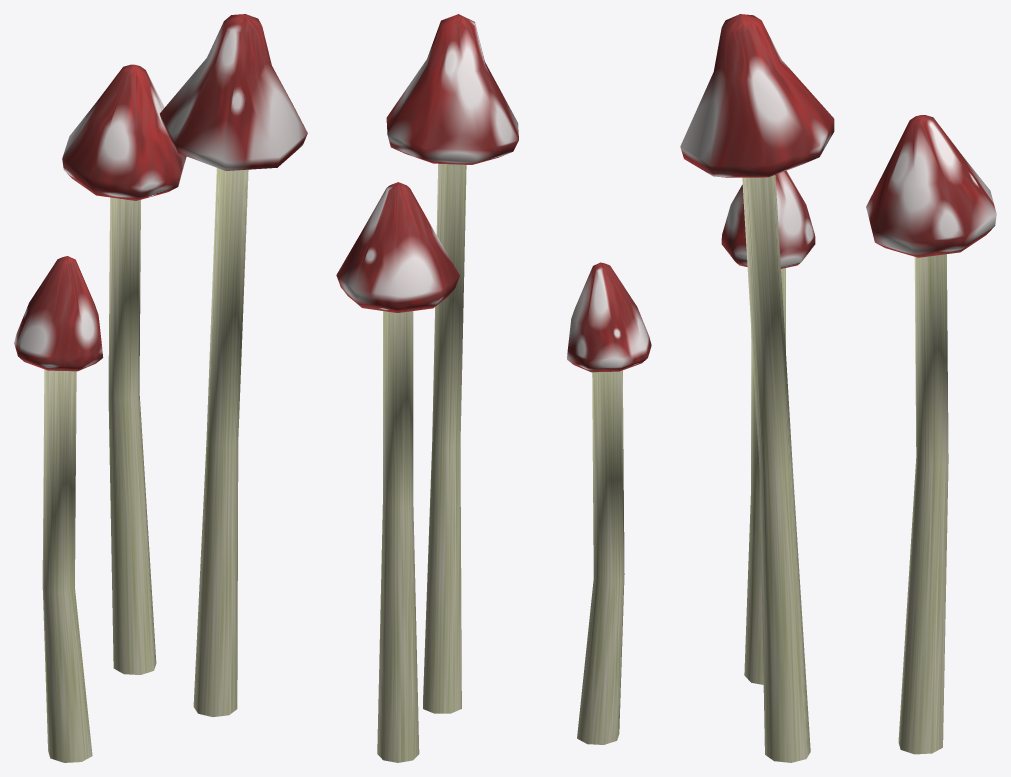
Rendered from cave_shrooms_floor4.glb.
The picture shows the model from 3 angles, left to right: view 1: azimuth 30°, elevation 25°; view 2: azimuth 150°, elevation 25°; view 3: azimuth 270°, elevation 25°; orthographic projection. The views are drawn at different scales.
Visible parts, largest first — view 1: floor_shroom4-col; view 2: floor_shroom4-col; view 3: floor_shroom4-col.
Boxes of the visible parts, x1,y1,x2,y2 form: floor_shroom4-col: (14,14,307,762); floor_shroom4-col: (336,14,651,762); floor_shroom4-col: (680,14,996,762).
Size of the model in its own units: 0.7903 by 1.95 by 0.7529.
Materials: 1 (1 with a texture image).
